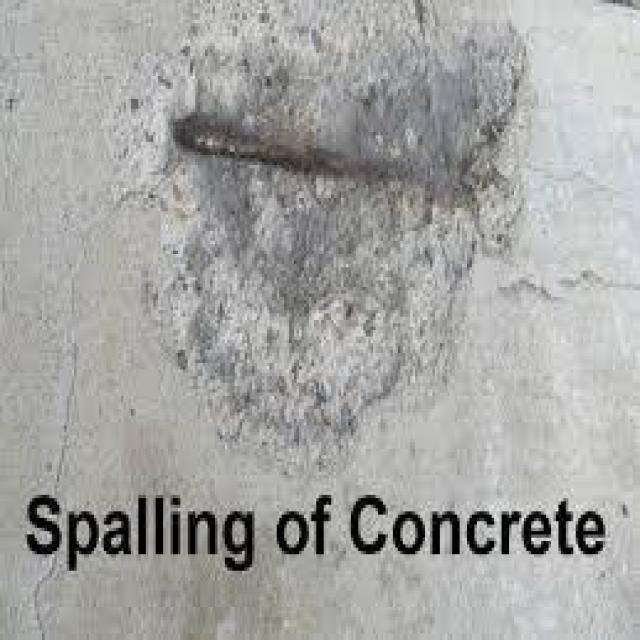Rebar: (137, 25, 520, 451)
